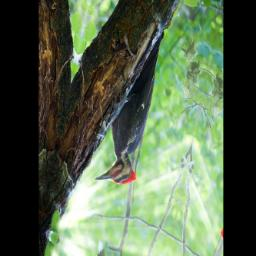Woodpecker: (93, 9, 169, 204)
